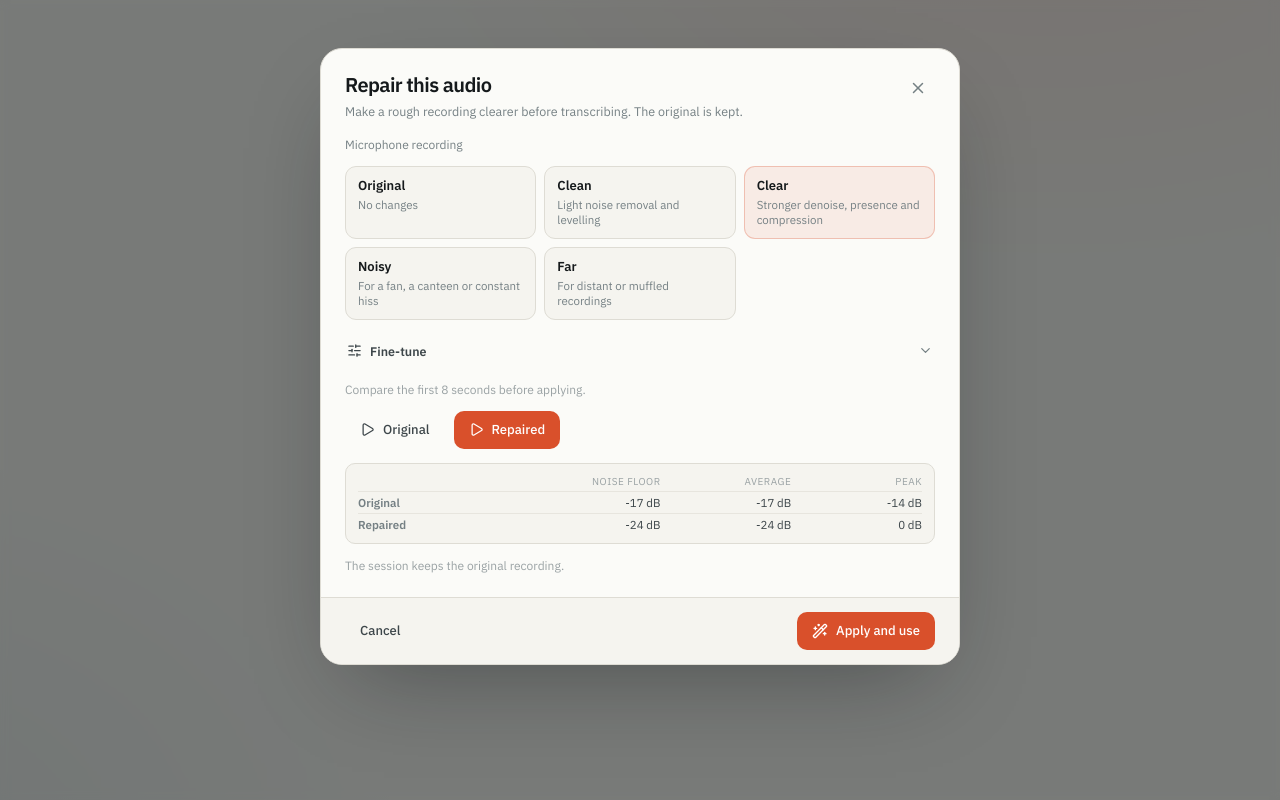
Test: AudioRepairDialog › cannot apply the untouched original
This screenshot has width=1280, height=800.
Click the radio button labelled "Original No changes": (441, 202) x1=345 y1=166 x2=536 y2=239
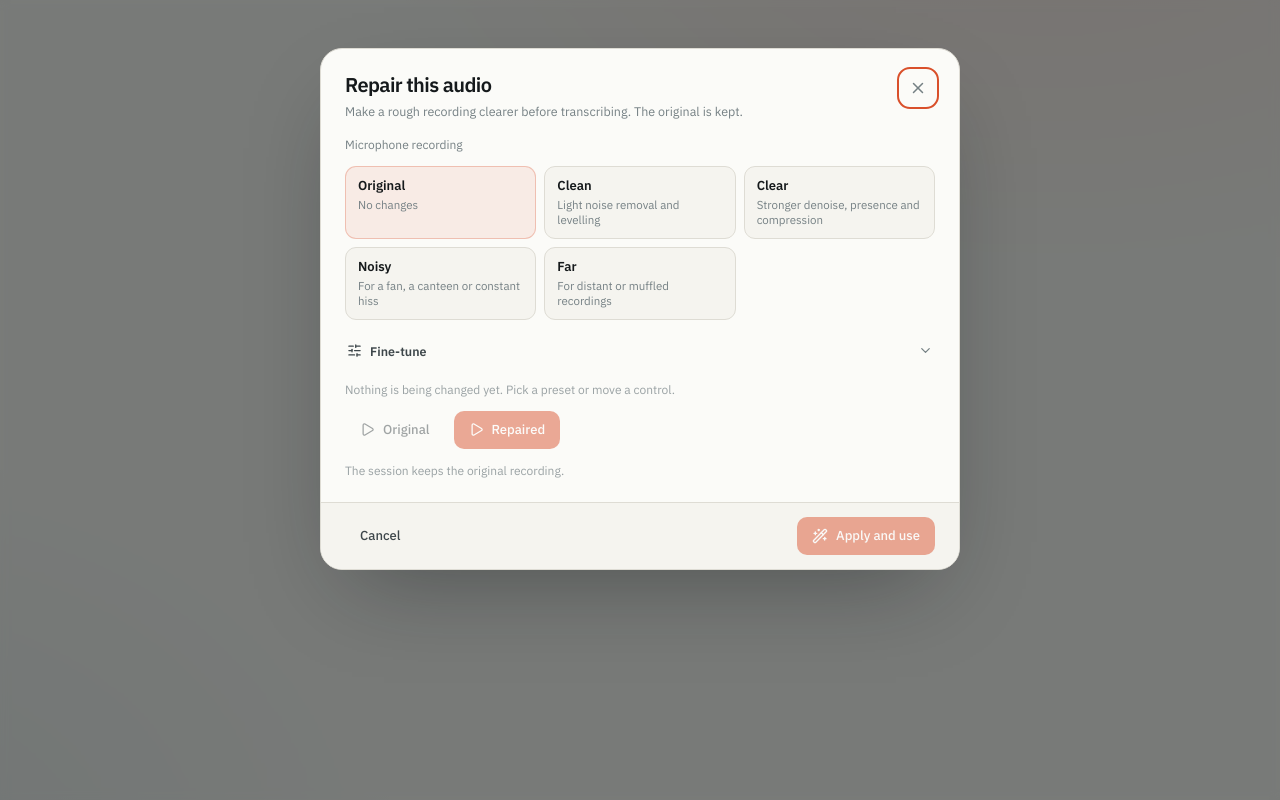
Result: the button "Apply and use" is disabled at x1=797 y1=517 x2=935 y2=555
